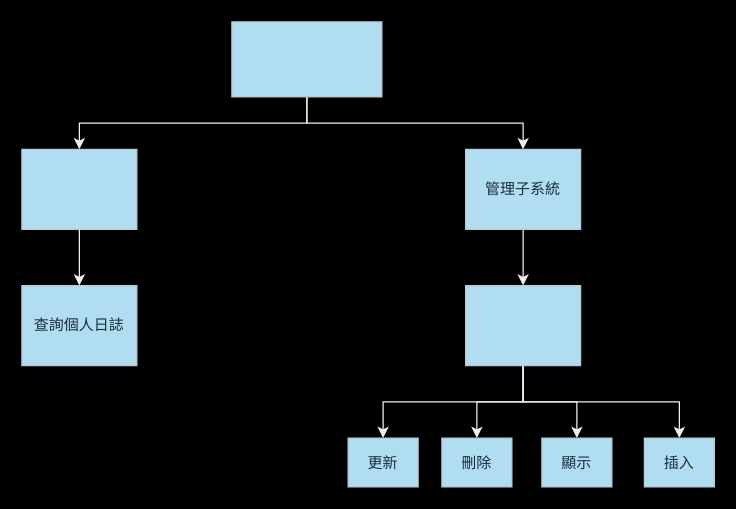
The diagram is 736 pixels wide and 509 high, and some of its shapes have lost their labels. Each missing label, with the box of its shape:
查詢子系統: (21, 148, 137, 229)
登入個人訊息系統: (231, 21, 382, 97)
管理個人日誌: (464, 284, 581, 366)
